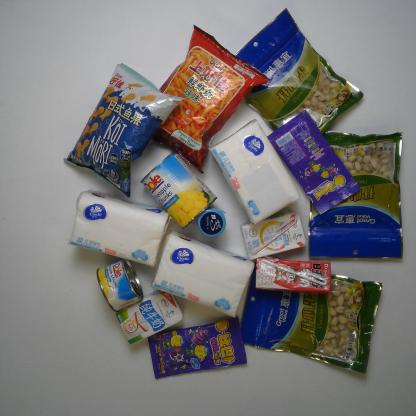Candy: (267, 109, 363, 215), (146, 315, 248, 380)
Canned Food: (139, 150, 218, 230), (96, 258, 146, 314)
Dried Fruit: (234, 7, 365, 135), (240, 274, 384, 375), (306, 130, 404, 261)
Gum: (196, 206, 228, 239)
Milk: (114, 288, 184, 347), (238, 209, 308, 260), (254, 256, 333, 296)
Puffed Food: (151, 22, 272, 176), (62, 62, 186, 198)
Tissue: (207, 118, 302, 225), (149, 230, 255, 319), (66, 188, 173, 268)
